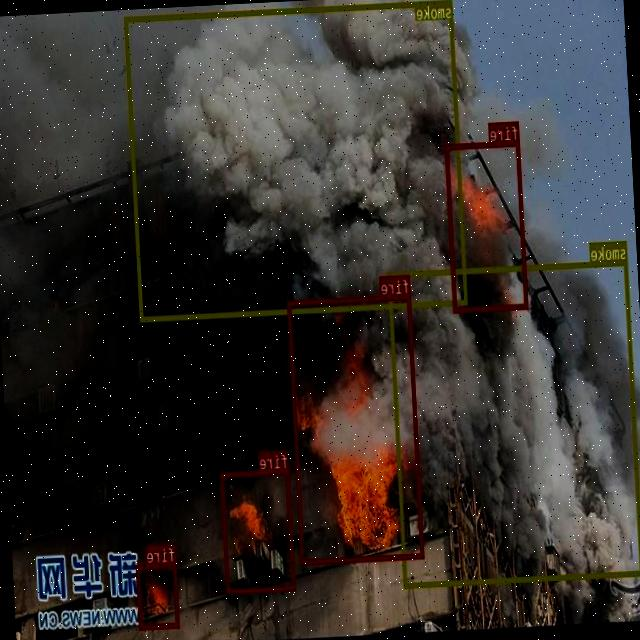fire: (288, 293, 425, 564), (446, 140, 530, 312), (222, 469, 296, 593), (136, 562, 180, 629)
smoke: (125, 0, 469, 321), (388, 260, 640, 588)
